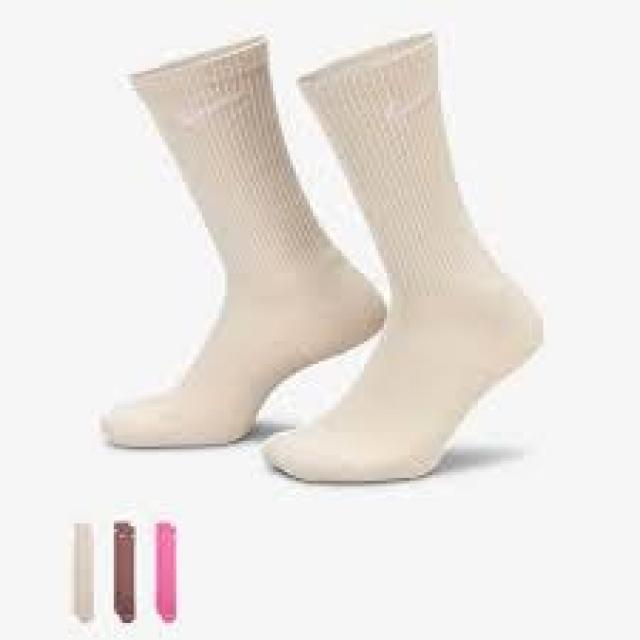sock: (256, 29, 543, 484), (97, 31, 387, 447)
